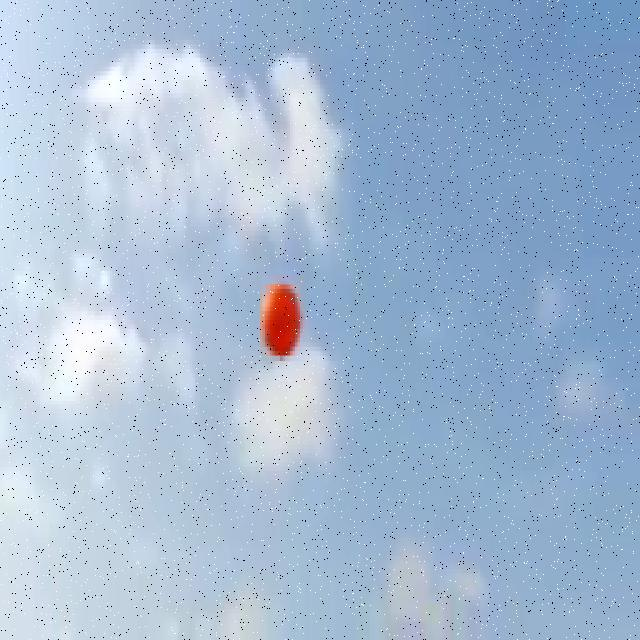red: (259, 282, 301, 357)
